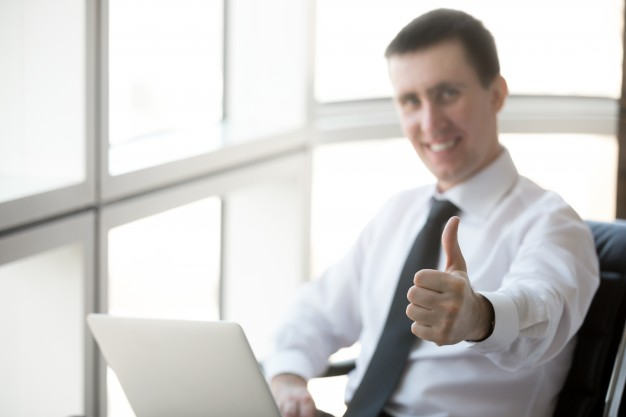thumbsup: (405, 215, 465, 346)
